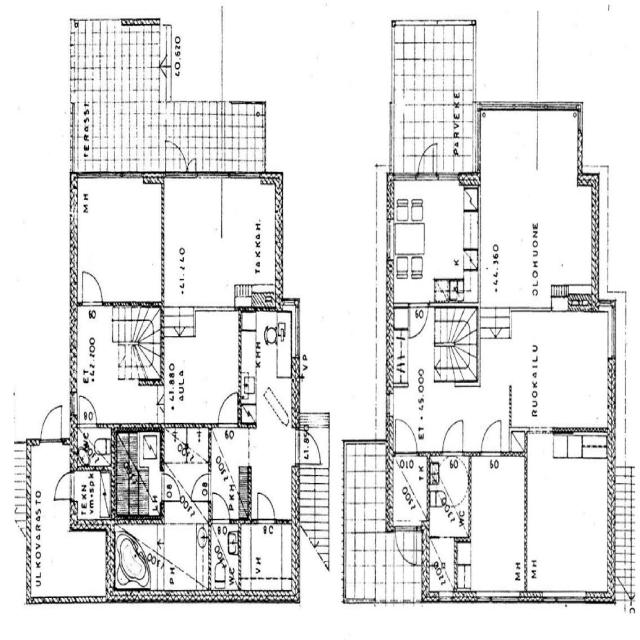door: (393, 414, 421, 458), (478, 416, 507, 458), (439, 415, 467, 458), (78, 265, 106, 308), (37, 402, 65, 445), (296, 428, 324, 468), (215, 390, 241, 430), (394, 525, 418, 568), (416, 142, 439, 182), (51, 469, 75, 505), (76, 392, 100, 428), (254, 489, 278, 524), (159, 468, 182, 504), (408, 302, 428, 341), (190, 471, 210, 502), (212, 492, 230, 524)
window: (543, 588, 587, 610), (604, 304, 618, 366), (290, 302, 302, 363), (486, 588, 522, 608), (476, 590, 495, 606), (438, 591, 454, 606)
zone: (479, 108, 594, 306), (162, 176, 278, 308), (526, 435, 612, 599), (504, 313, 616, 433), (75, 176, 164, 306), (390, 178, 480, 302), (160, 308, 243, 426), (70, 308, 143, 430), (466, 454, 527, 598), (440, 453, 499, 548), (160, 426, 209, 512), (114, 428, 161, 516), (243, 521, 296, 599), (210, 424, 250, 518), (428, 453, 470, 539), (389, 452, 430, 528), (70, 468, 112, 526), (209, 521, 242, 594), (424, 536, 459, 598)
